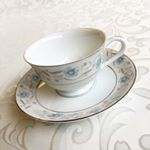cups: (21, 22, 129, 96)
